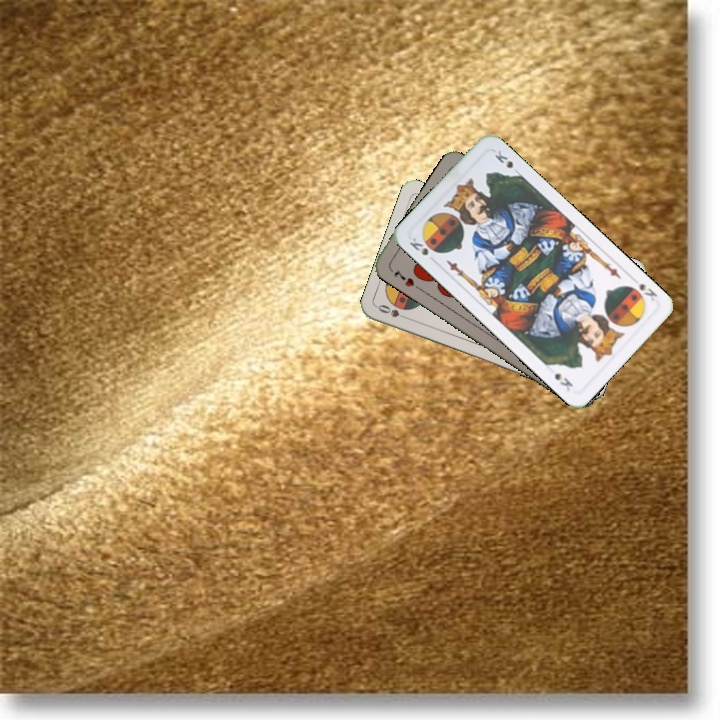H7: (390, 265, 417, 289)
SK: (405, 233, 431, 258), (635, 279, 660, 303)
SO: (374, 300, 413, 322)
